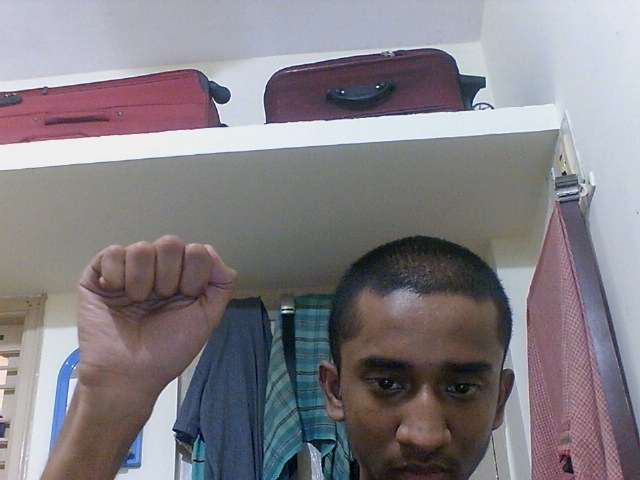hand: (69, 231, 241, 411)
